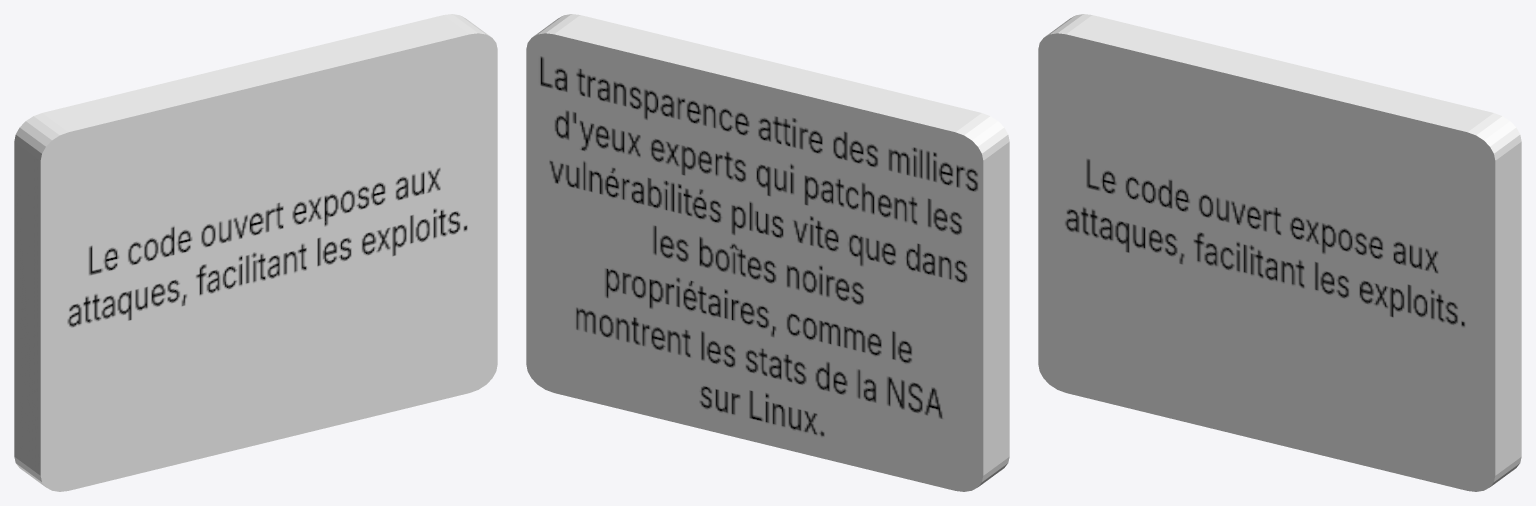
The picture shows the model from 3 angles, left to right: view 1: azimuth 30°, elevation 25°; view 2: azimuth 150°, elevation 25°; view 3: azimuth 330°, elevation 25°; orthographic projection.
Visible parts, largest first — view 1: Q1; view 2: Q1; view 3: Q1.
Part boxes in pixels (x1,y1,x2,y2): Q1: [14, 14, 497, 491]; Q1: [526, 14, 1009, 491]; Q1: [1038, 14, 1521, 491].
Size of the model in its own units: 4 by 3 by 0.4.
Materials: 1 (1 with a texture image).
